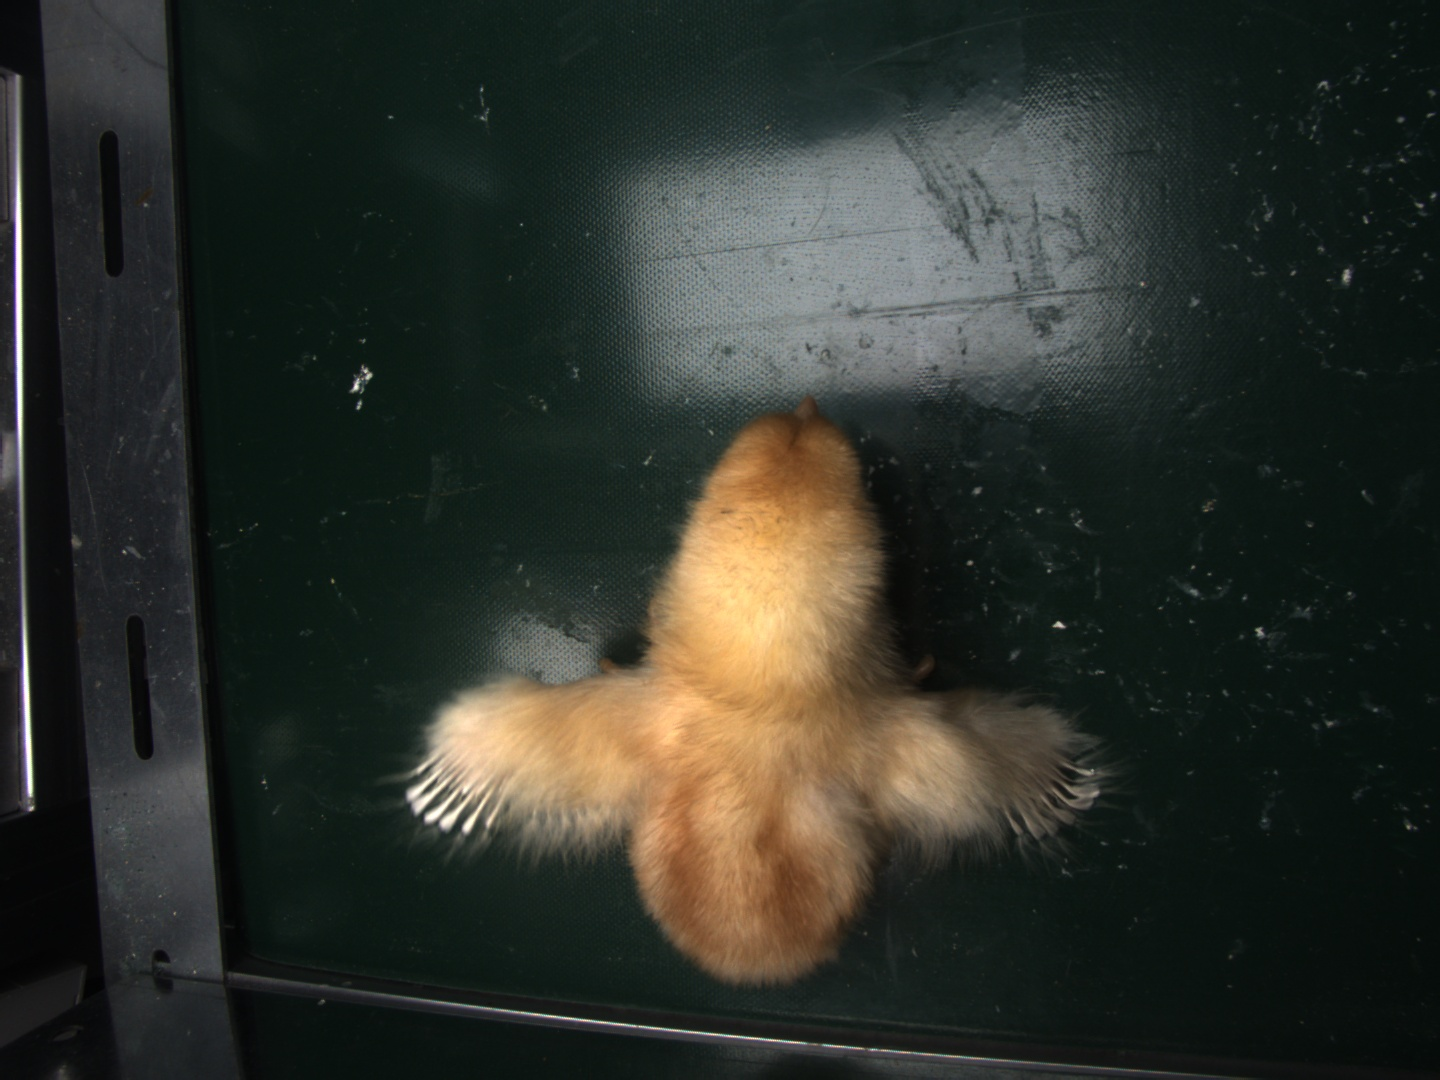female: (406, 749, 509, 832)
